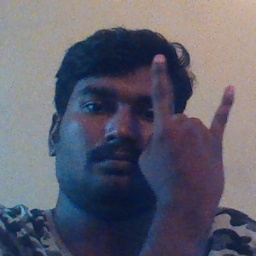V: (134, 50, 240, 206)
